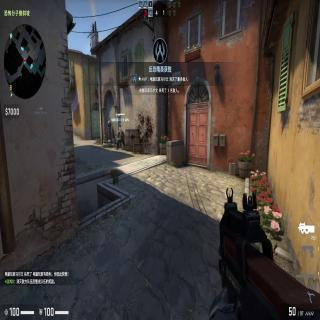CT-Body: (116, 126, 126, 151)
CT-Head: (118, 126, 122, 131)
